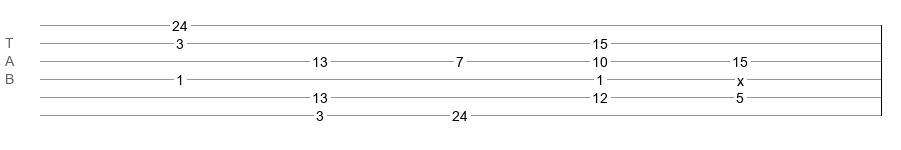1: (176, 72, 184, 82), (596, 72, 604, 82)
10: (592, 54, 608, 64)
12: (592, 90, 608, 100)
13: (312, 54, 328, 64), (312, 90, 328, 100)
15: (592, 36, 608, 46), (732, 54, 748, 64)
24: (172, 18, 188, 28), (452, 108, 468, 118)
3: (176, 36, 184, 46), (316, 108, 324, 118)
5: (736, 90, 744, 100)
7: (456, 54, 464, 64)
x: (737, 73, 744, 81)
